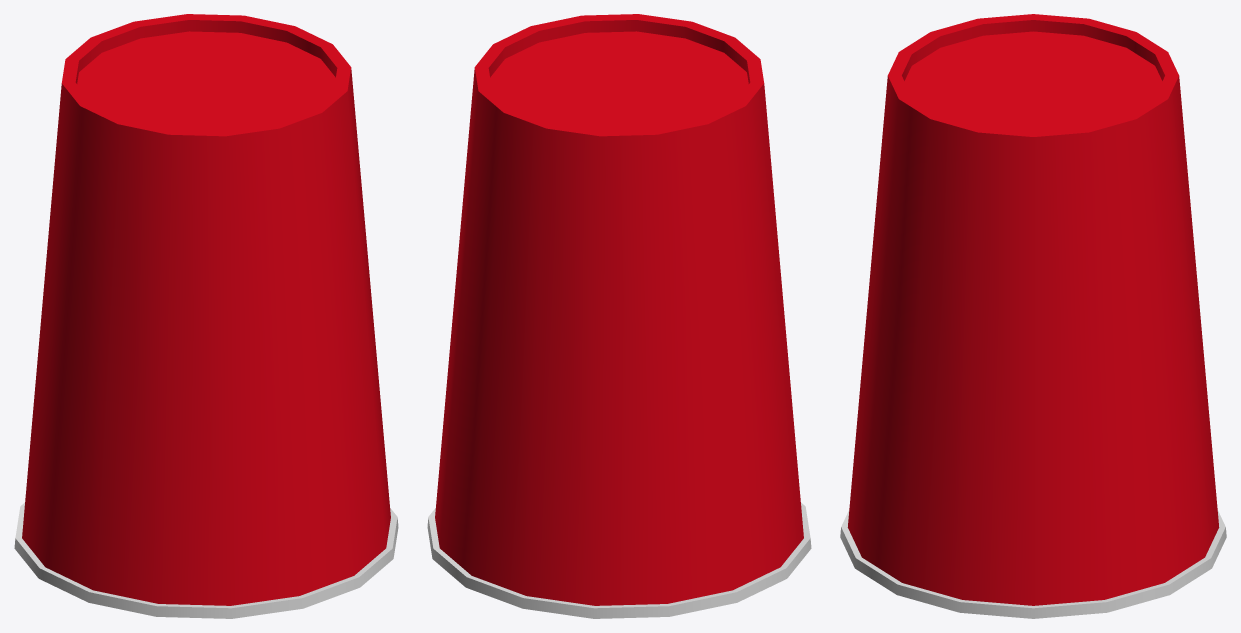
3 renders of one model, left to right at view 1: azimuth 30°, elevation 25°; view 2: azimuth 150°, elevation 25°; view 3: azimuth 270°, elevation 25°, orthographic.
Visible parts, largest first — view 1: Cylinder.001; view 2: Cylinder.001; view 3: Cylinder.001.
Boxes of the visible parts, bbox=[...] form: Cylinder.001: bbox=[14, 14, 398, 618]; Cylinder.001: bbox=[427, 14, 811, 618]; Cylinder.001: bbox=[840, 14, 1226, 618].
Bounding box in the file's own units: 221 × 292 × 221.
